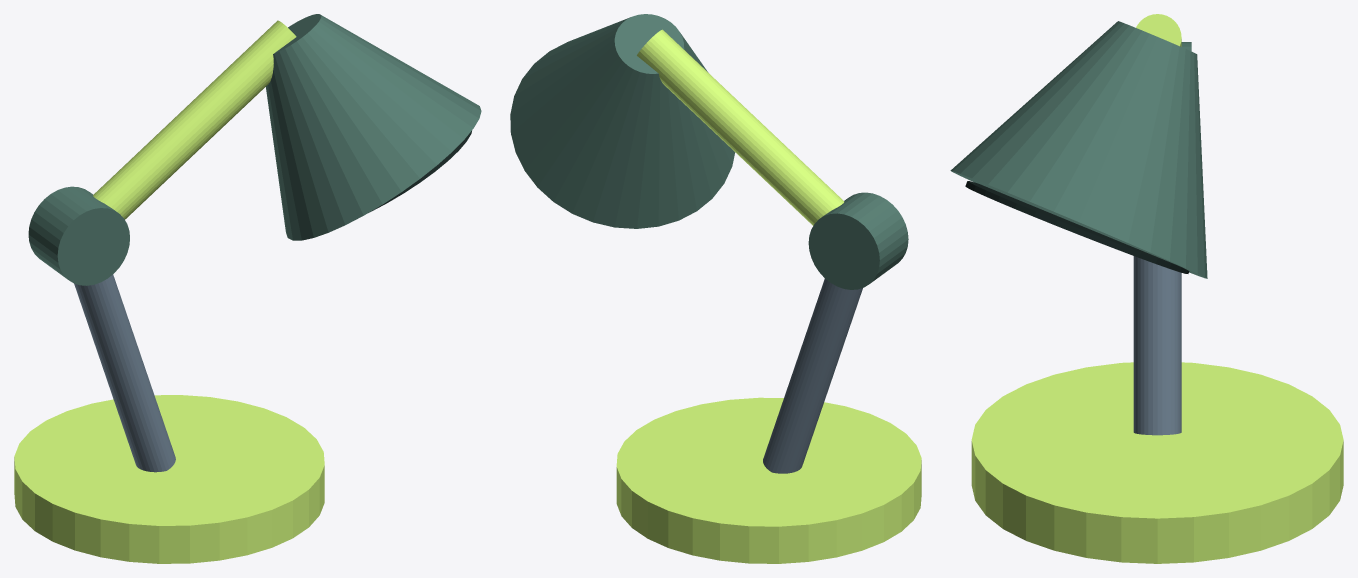
Rendered from lamp.glb.
3 views of the same model, side by side, from view 1: azimuth 30°, elevation 25°; view 2: azimuth 150°, elevation 25°; view 3: azimuth 270°, elevation 25° (orthographic). The views are drawn at different scales.
Parts seen in each view (by area): view 1: base, shade, upper arm, lower arm, joint; view 2: base, shade, upper arm, lower arm, joint; view 3: base, shade, lower arm, diffuser, upper arm.
Part boxes in pixels (left/top/right/bottom): base: left=14, top=395, right=324, bottom=563; shade: left=266, top=14, right=481, bottom=240; upper arm: left=93, top=20, right=296, bottom=219; lower arm: left=74, top=274, right=175, bottom=472; joint: left=28, top=186, right=129, bottom=285; base: left=616, top=397, right=921, bottom=563; shade: left=510, top=14, right=735, bottom=228; upper arm: left=637, top=29, right=844, bottom=225; lower arm: left=763, top=278, right=862, bottom=473; joint: left=808, top=192, right=908, bottom=289; base: left=971, top=362, right=1343, bottom=563; shade: left=950, top=21, right=1207, bottom=278; lower arm: left=1133, top=256, right=1181, bottom=435; diffuser: left=965, top=181, right=1189, bottom=273; upper arm: left=1136, top=14, right=1181, bottom=46.
Size of the model in its own units: 1.58 by 1.67 by 1.1.
